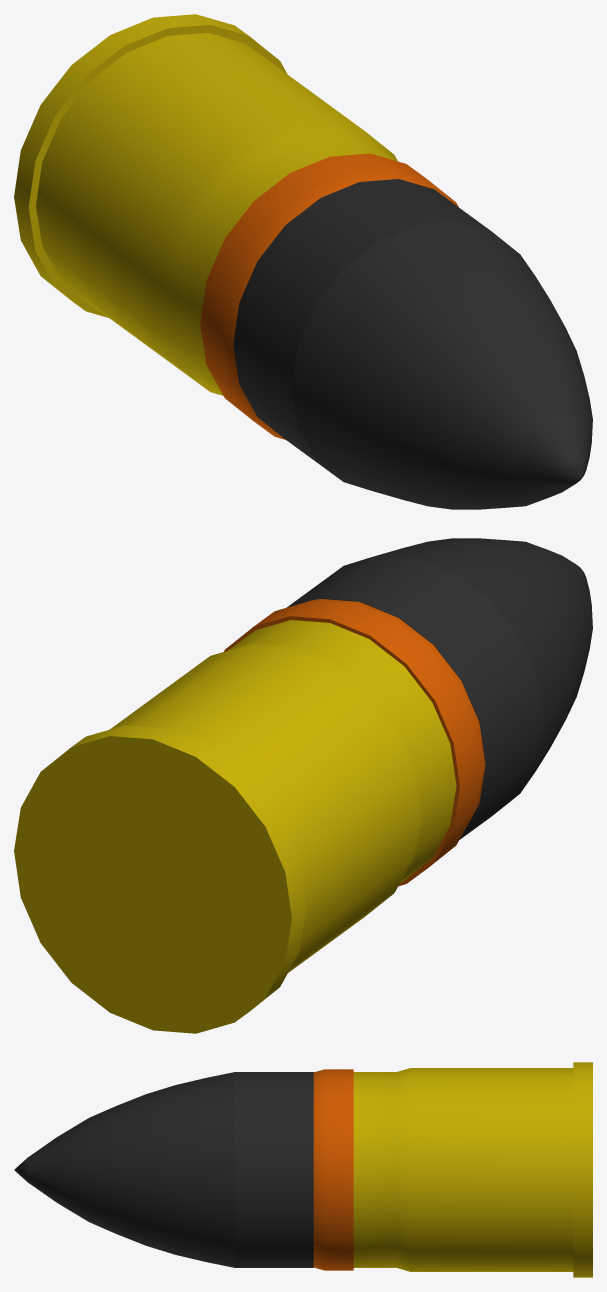
The model's file is bullet1.fbx.
3 renders of one model, top to bottom at view 1: azimuth 30°, elevation 25°; view 2: azimuth 150°, elevation 25°; view 3: azimuth 270°, elevation 25°, orthographic. The views are drawn at different scales.
Visible parts, largest first — view 1: pCylinder7; view 2: pCylinder7; view 3: pCylinder7.
Boxes of the visible parts, <box> form: pCylinder7: <box>14,14,592,509</box>; pCylinder7: <box>14,538,592,1033</box>; pCylinder7: <box>14,1062,592,1277</box>.
Size of the model in its own units: 11 by 11 by 29.33.
